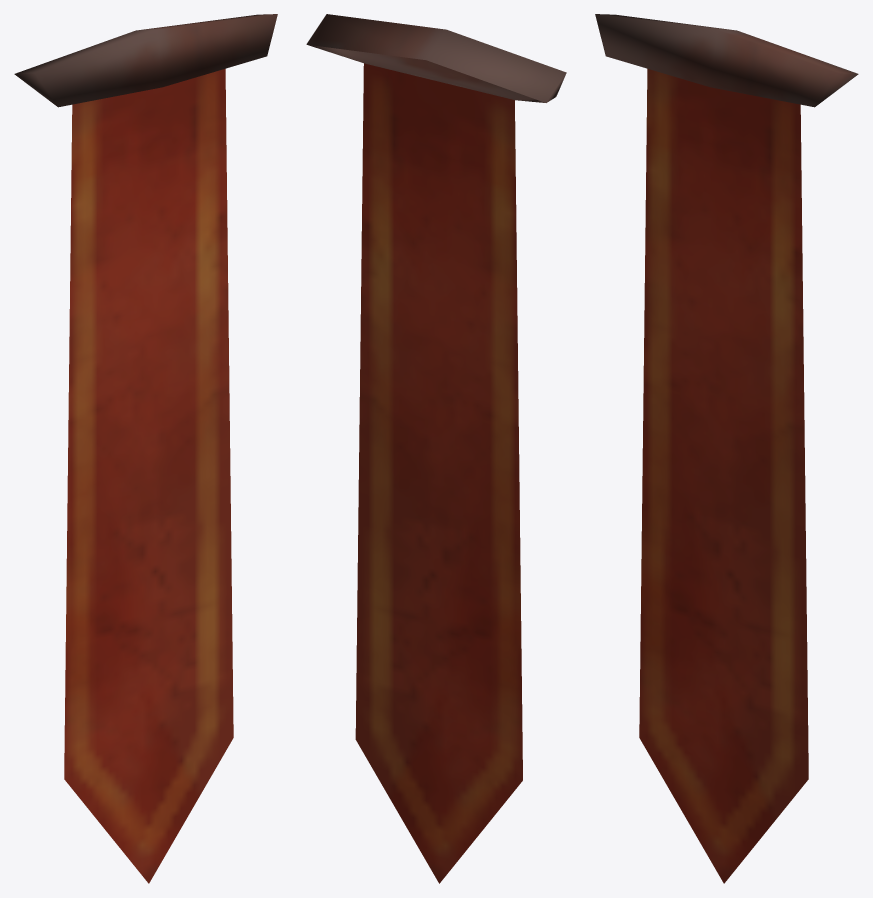
File: castleWalls_flag_1.FBX
The picture shows the model from 3 angles, left to right: view 1: azimuth 30°, elevation 25°; view 2: azimuth 150°, elevation 25°; view 3: azimuth 330°, elevation 25°; orthographic projection.
Visible parts, largest first — view 1: castleWalls_flag_1; view 2: castleWalls_flag_1; view 3: castleWalls_flag_1.
Part boxes in pixels (x1,y1,x2,y2): castleWalls_flag_1: [14, 14, 277, 883]; castleWalls_flag_1: [306, 14, 566, 883]; castleWalls_flag_1: [595, 14, 858, 883].
Bounding box in the file's own units: 39.28 × 133 × 7.56.
1 material, 1 textured.
